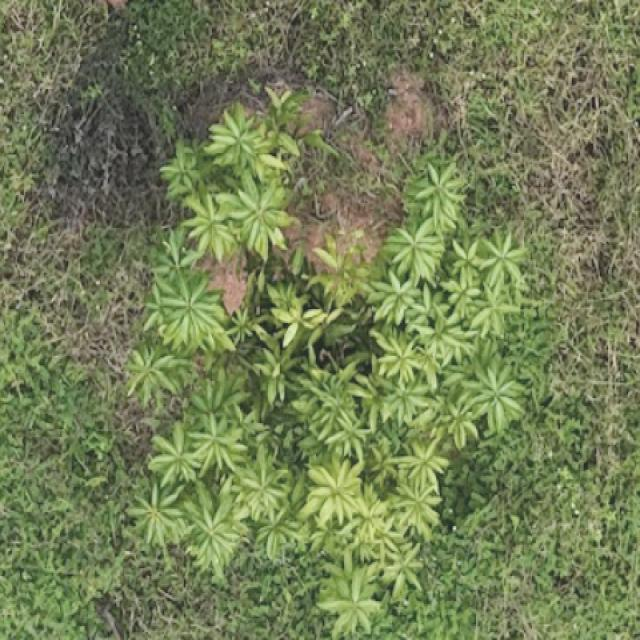mangoTree: (123, 96, 536, 636)
